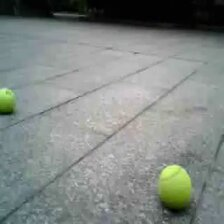tennis: (158, 164, 190, 208), (1, 88, 16, 114)
